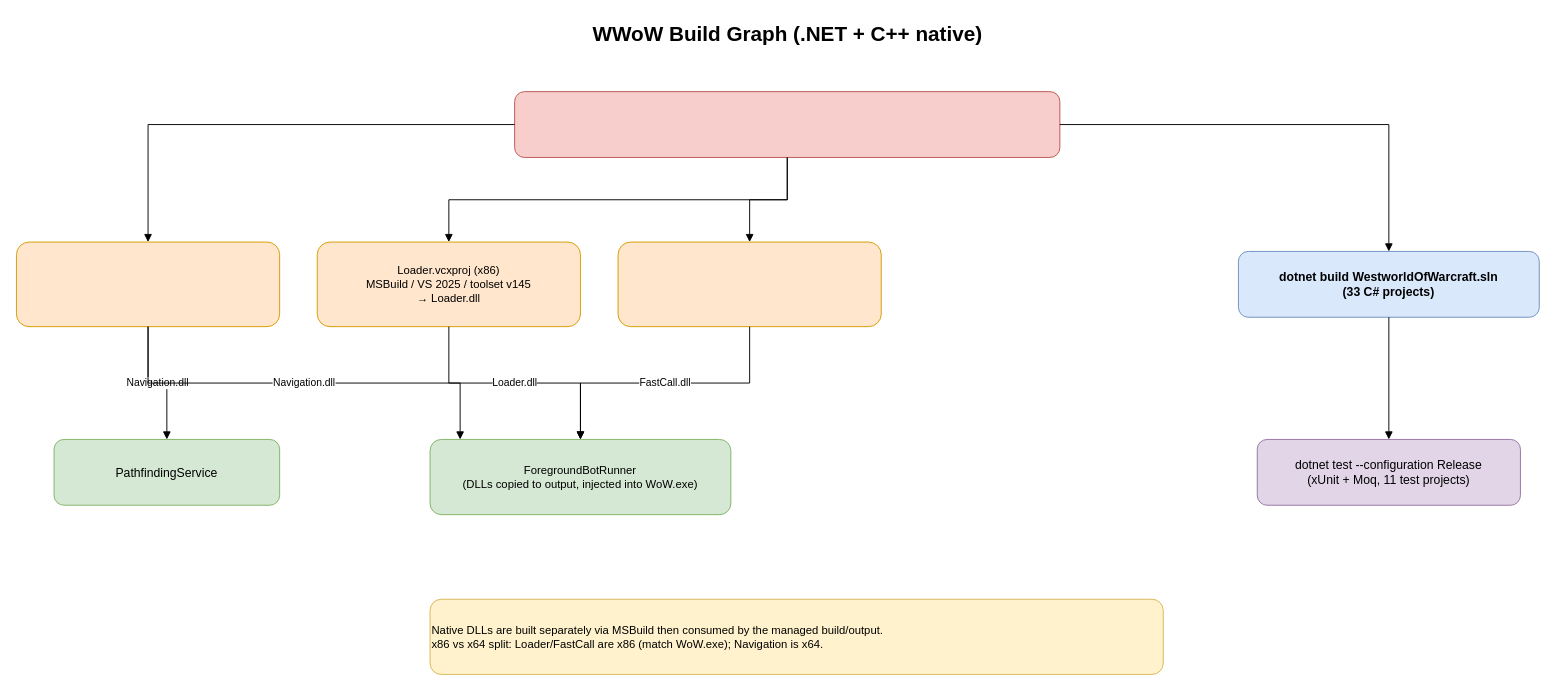
Image size: 1556x691. Some labels were removed from this diagram. The centre of each missing label's shape, as x and y in pixels:
"FastCall.vcxproj (x86) MSBuild / VS 2025 / toolset v145 → FastCall.dll" goes at [749,284].
"Navigation.vcxproj (x64) MSBuild / VS 2025 / toolset v145 → Navigation.dll" goes at [148,284].
"PRECONDITION: Kill WoW.exe first (it locks injected DLLs → MSB3027 copy errors)" goes at [787,124].
